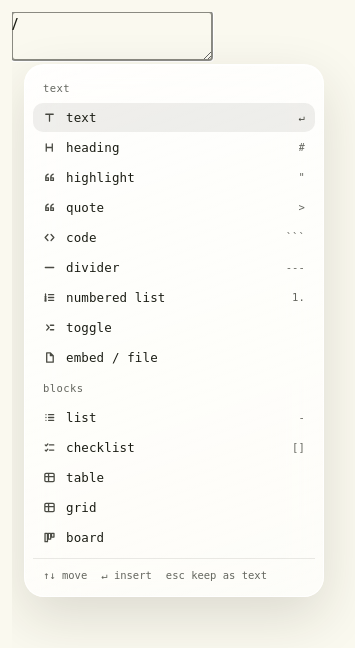
it: open › a selected row shows ↵ in place of its key hint; an unselected row shows the hint
The image size is (355, 648).
Check: the text "[]" is shown, box [292,441,305,453]
Hover over the option "checklist []" at [100, 447], box [43,440,305,454]
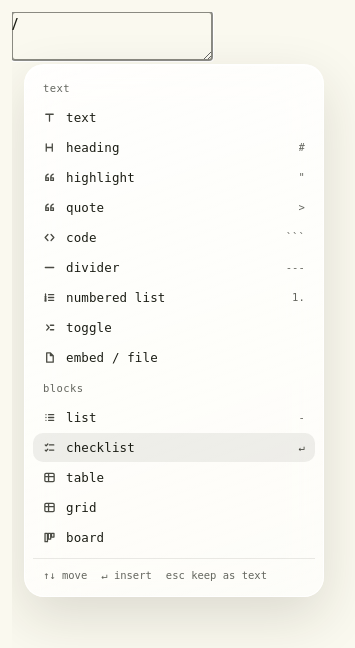
Check: the text "↵" is shown, box [298,441,305,453]
Check: the text "[]" is gone
